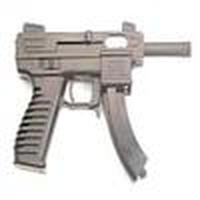gun: (18, 25, 153, 182)
